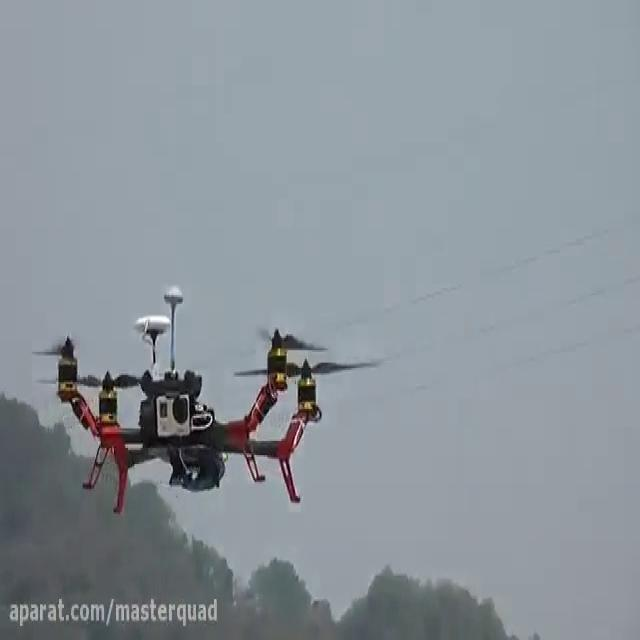drone: (27, 283, 382, 517)
